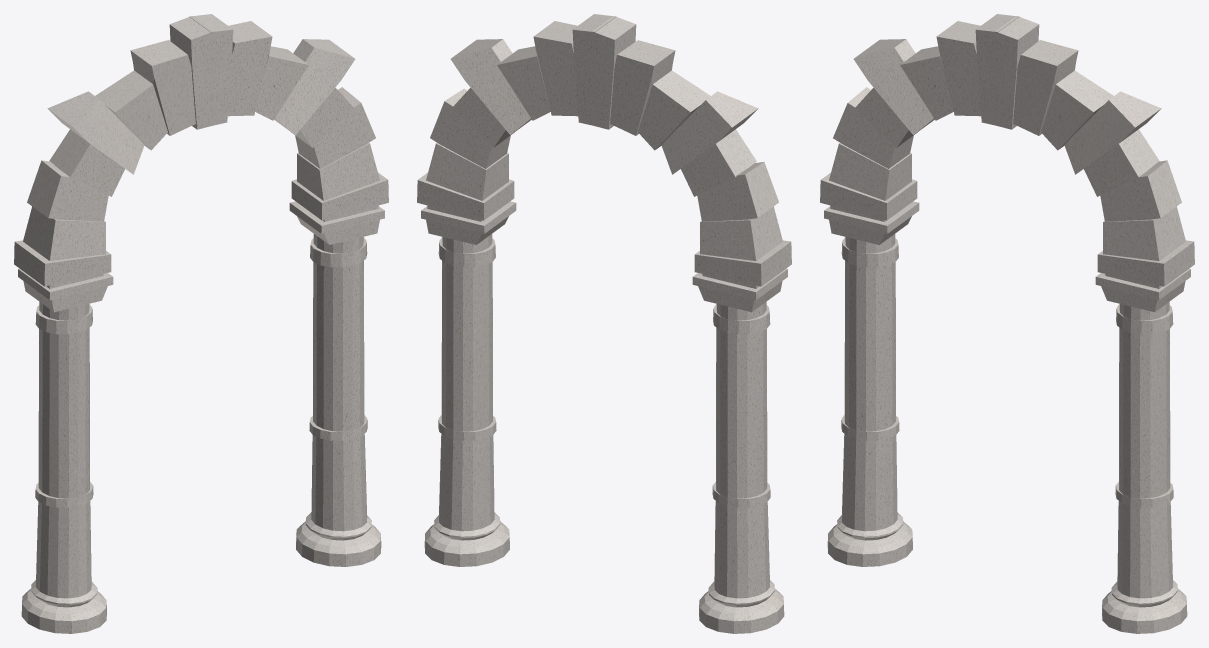
The model's file is Archway.fbx.
3 renders of one model, left to right at view 1: azimuth 30°, elevation 25°; view 2: azimuth 150°, elevation 25°; view 3: azimuth 330°, elevation 25°, orthographic.
Visible parts, largest first — view 1: Cylinder; view 2: Cylinder; view 3: Cylinder.
Part boxes in pixels (x1,y1,x2,y2): Cylinder: (14, 14, 388, 633); Cylinder: (417, 14, 791, 633); Cylinder: (820, 14, 1194, 633).
Bounding box in the file's own units: 707 × 1084 × 164.
